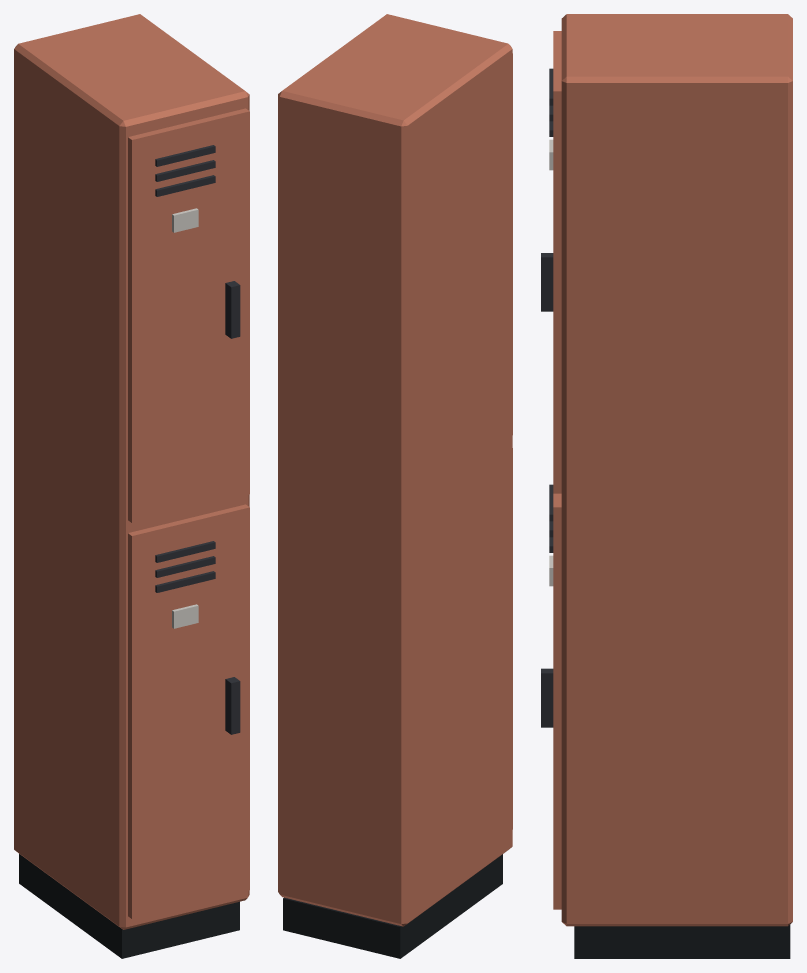
The model's file is locker-12.glb.
3 views of the same model, side by side, from view 1: azimuth 30°, elevation 25°; view 2: azimuth 150°, elevation 25°; view 3: azimuth 270°, elevation 25° (orthographic). The views are drawn at different scales.
Visible parts, largest first — view 1: locker_12; view 2: locker_12; view 3: locker_12.
Boxes of the visible parts, x1,y1,x2,y2 form: locker_12: [14, 14, 249, 958]; locker_12: [278, 14, 512, 958]; locker_12: [541, 14, 792, 958].
Bounding box in the file's own units: 0.3165 × 1.96 × 0.5053.
